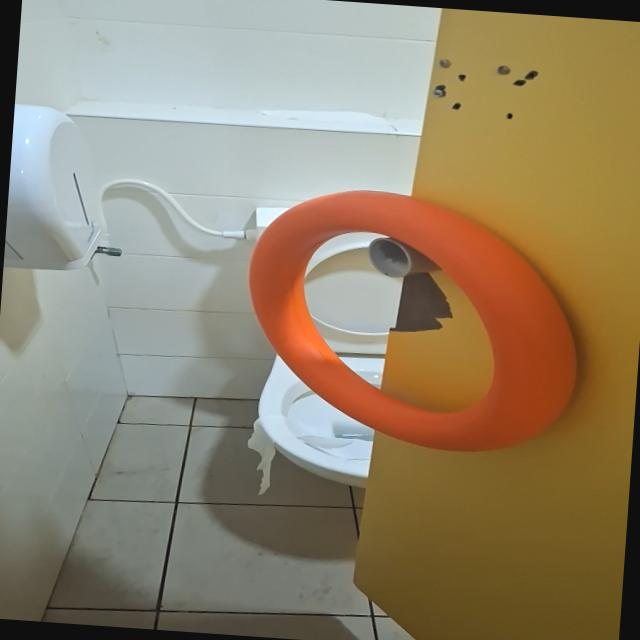note: (234, 180, 591, 461)
